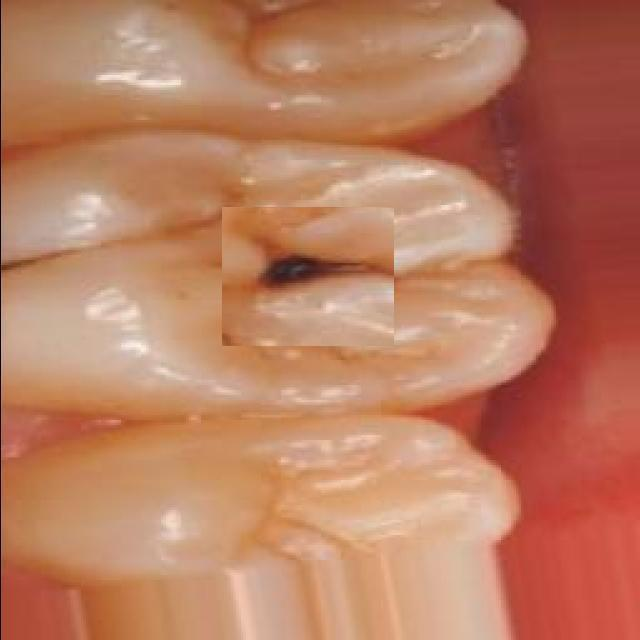caries: (221, 207, 393, 346)
